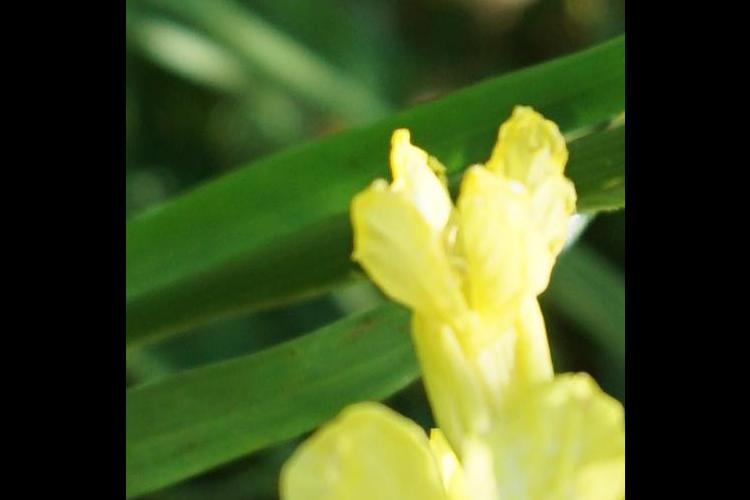yellow: (280, 103, 580, 500)
